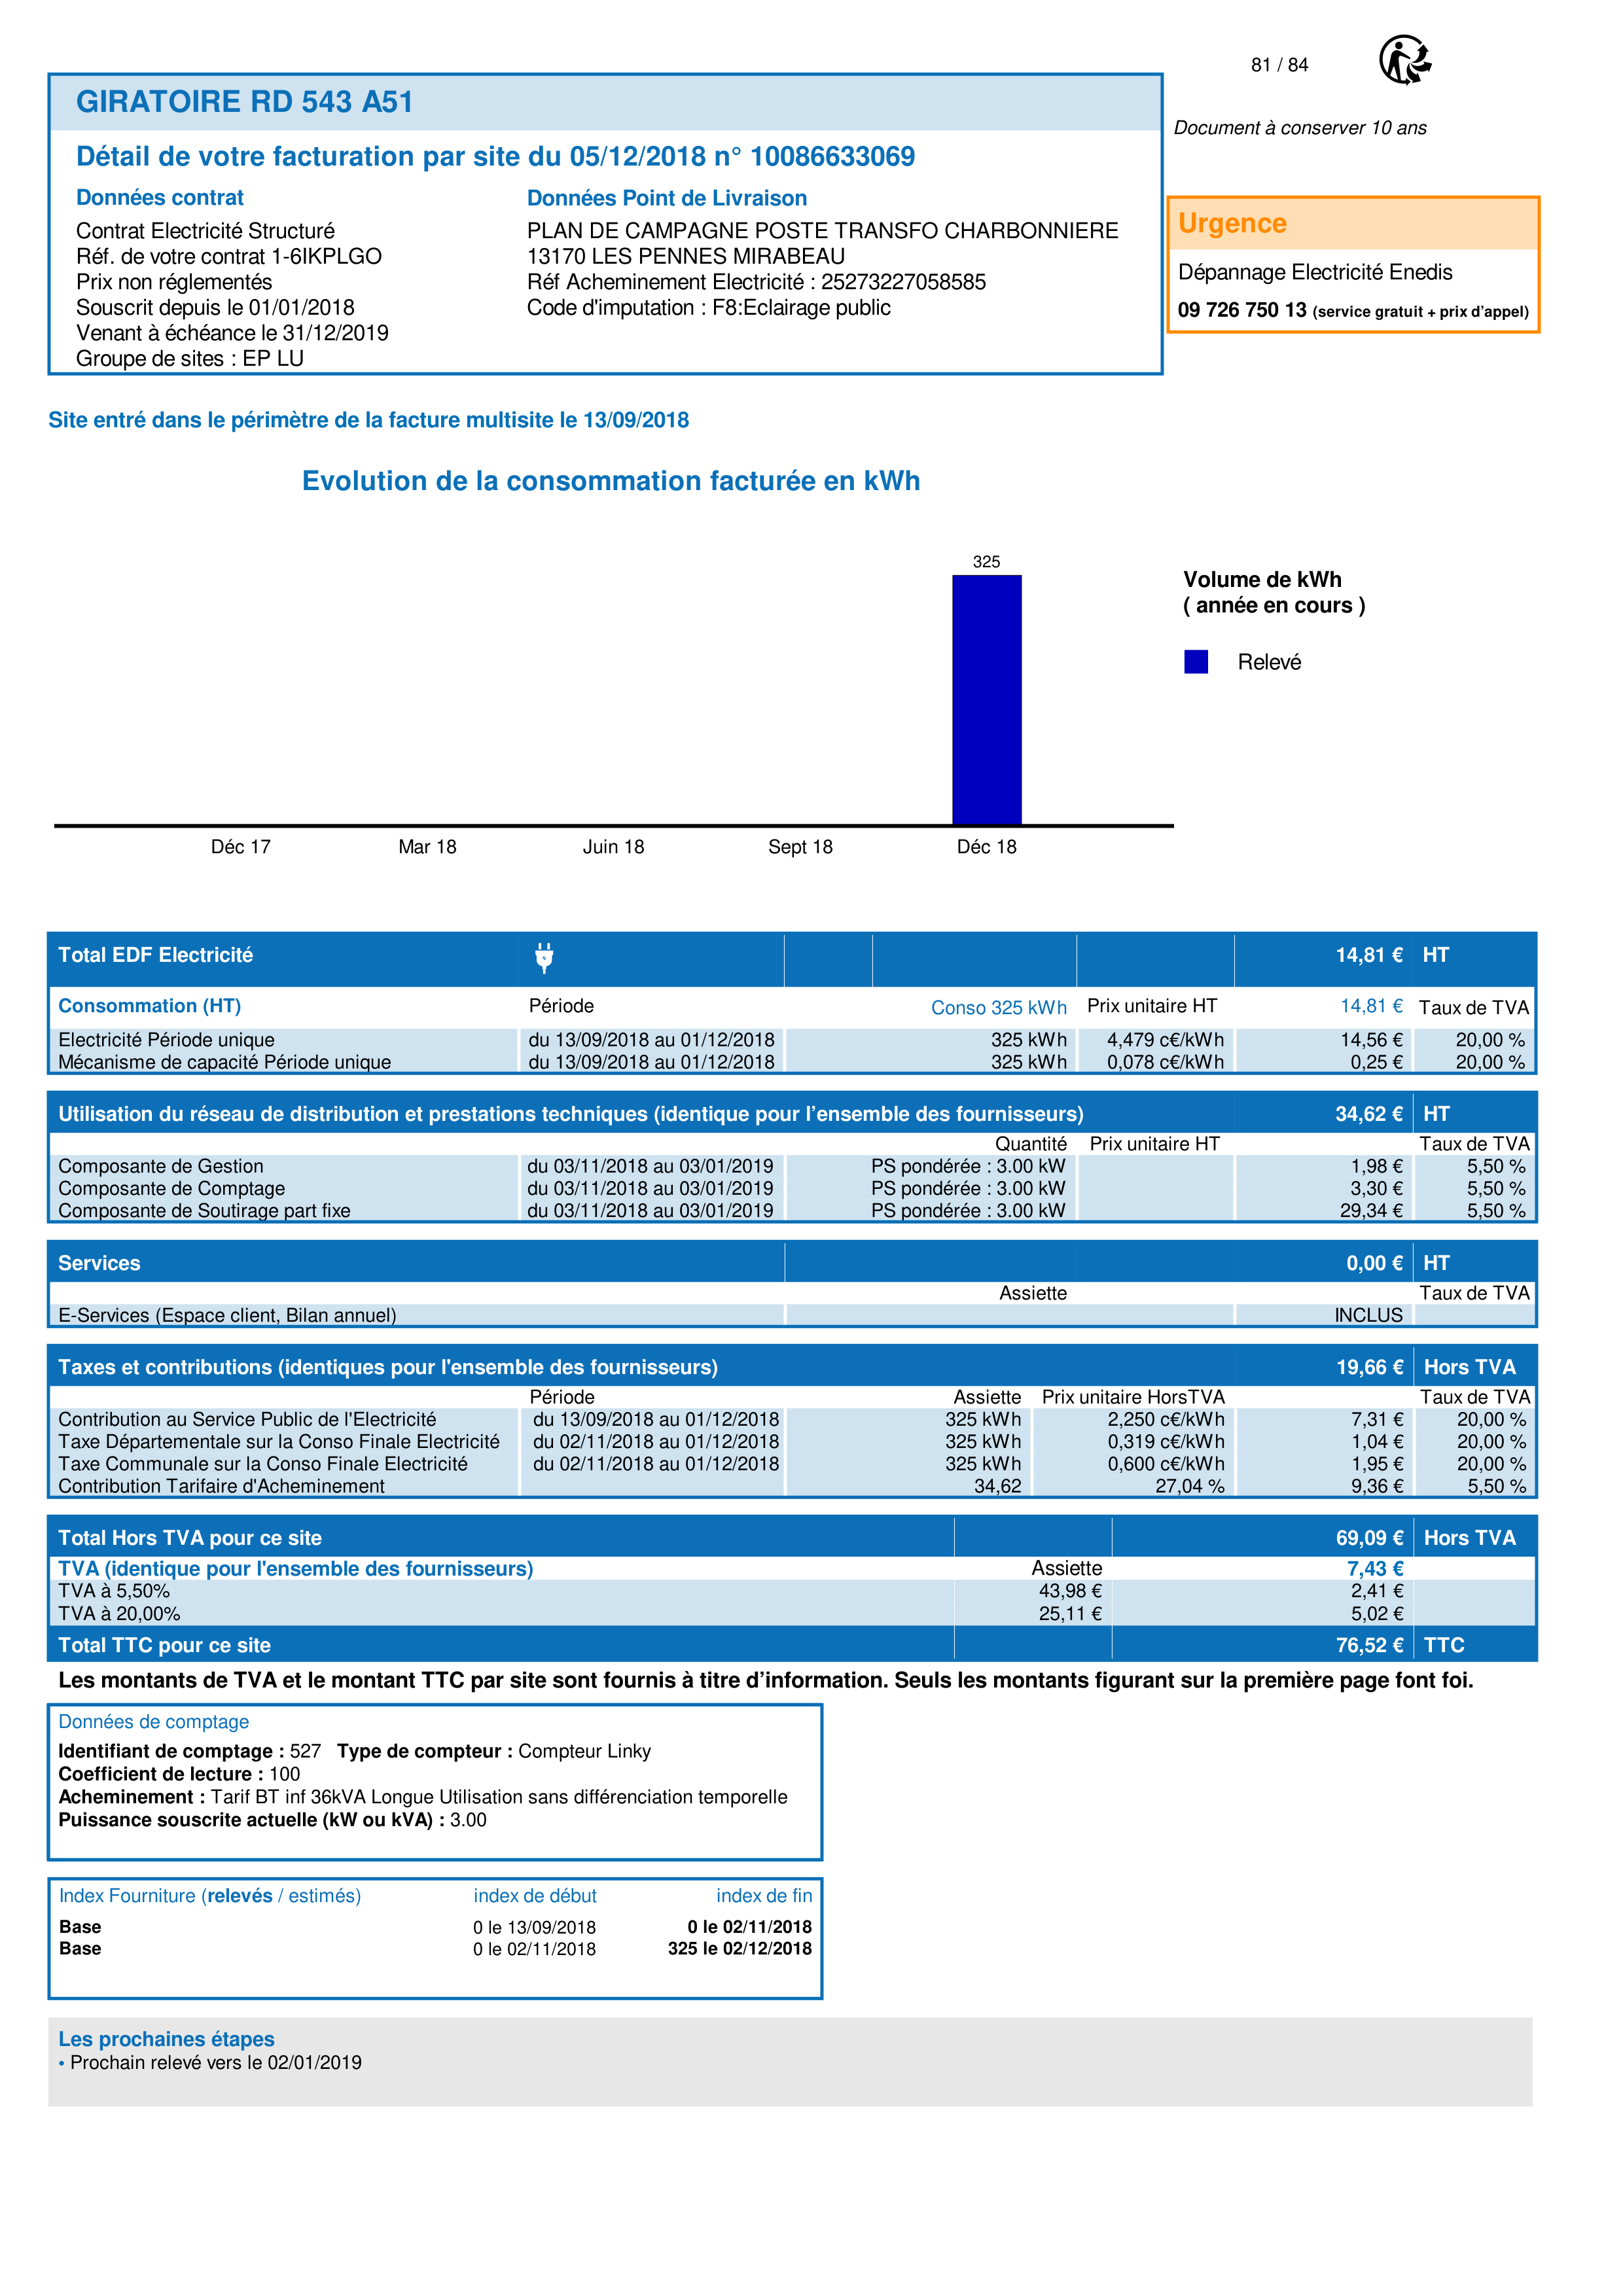area: (47, 1877, 823, 2003)
type_indicator: (45, 1877, 375, 1911)
